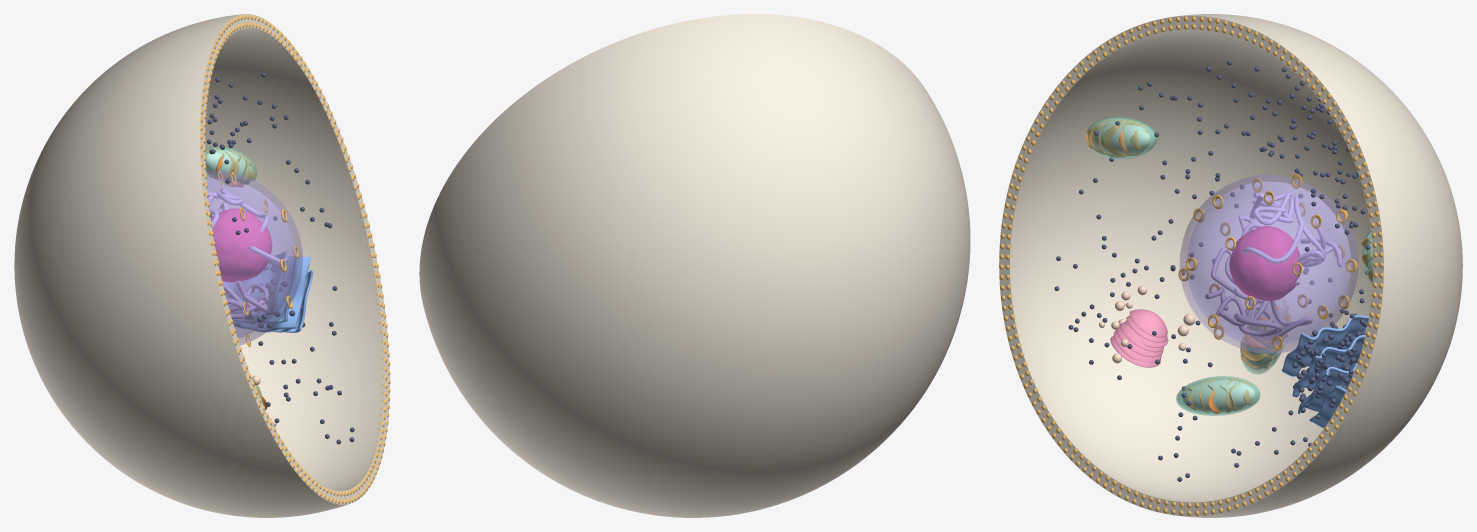
The picture shows the model from 3 angles, left to right: view 1: azimuth 30°, elevation 25°; view 2: azimuth 150°, elevation 25°; view 3: azimuth 270°, elevation 25°; orthographic projection. The views are drawn at different scales.
Visible parts, largest first — view 1: CellMembrane.001, NuclearEnvelope.001, Phospholipid_Head_Rows.001, Nucleolus.001, Ribosomes_Free.001, Mito_03.001, RoughER_Cisterna_03.001, RoughER_Cisterna_01.001, RoughER_Cisterna_02.001, NuclearPoreComplexes.001, Mito_03_Cristae.001, Mito_03_Matrix.001 (+1 smaller); view 2: CellMembrane.001; view 3: CellMembrane.001, NuclearEnvelope.001, Phospholipid_Head_Rows.001, Ribosomes_Free.001, Nucleolus.001, Mito_05.001, NuclearPoreComplexes.001, Mito_01.001, Ribosomes_ER_bound.001, RoughER_Cisterna_01.001, Mito_05_Matrix.001, Mito_01_Cristae.001 (+11 smaller).
Part boxes in pixels (x1,y1,x2,y2): CellMembrane.001: (14, 14, 389, 517); NuclearEnvelope.001: (206, 170, 302, 345); Phospholipid_Head_Rows.001: (200, 14, 390, 504); Nucleolus.001: (210, 208, 272, 282); Ribosomes_Free.001: (207, 72, 354, 444); Mito_03.001: (205, 146, 256, 185); RoughER_Cisterna_03.001: (233, 256, 310, 331); RoughER_Cisterna_01.001: (224, 252, 286, 315); RoughER_Cisterna_02.001: (233, 256, 298, 323); NuclearPoreComplexes.001: (216, 170, 299, 346); Mito_03_Cristae.001: (205, 149, 255, 187); Mito_03_Matrix.001: (205, 150, 252, 182); CellMembrane.001: (419, 14, 970, 517); CellMembrane.001: (999, 14, 1462, 517); NuclearEnvelope.001: (1179, 174, 1358, 353); Phospholipid_Head_Rows.001: (999, 16, 1383, 515); Ribosomes_Free.001: (1054, 60, 1370, 481); Nucleolus.001: (1229, 226, 1301, 300); Mito_05.001: (1176, 376, 1260, 415); NuclearPoreComplexes.001: (1178, 174, 1357, 350); Mito_01.001: (1087, 117, 1156, 159); Ribosomes_ER_bound.001: (1292, 319, 1367, 412); RoughER_Cisterna_01.001: (1281, 315, 1368, 376); Mito_05_Matrix.001: (1182, 380, 1254, 412); Mito_01_Cristae.001: (1086, 119, 1149, 157).
Bounding box in the file's own units: 17.93 × 19.79 × 18.4.
